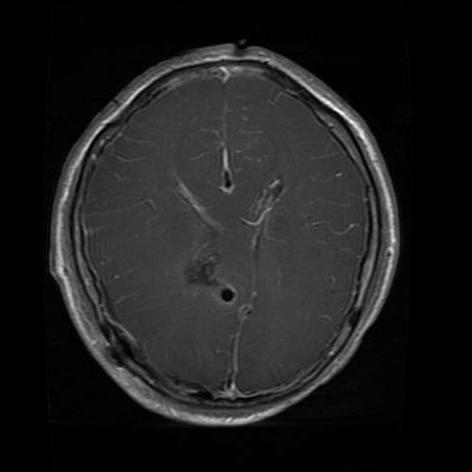Tumour-Glioma: (180, 235, 237, 307)
